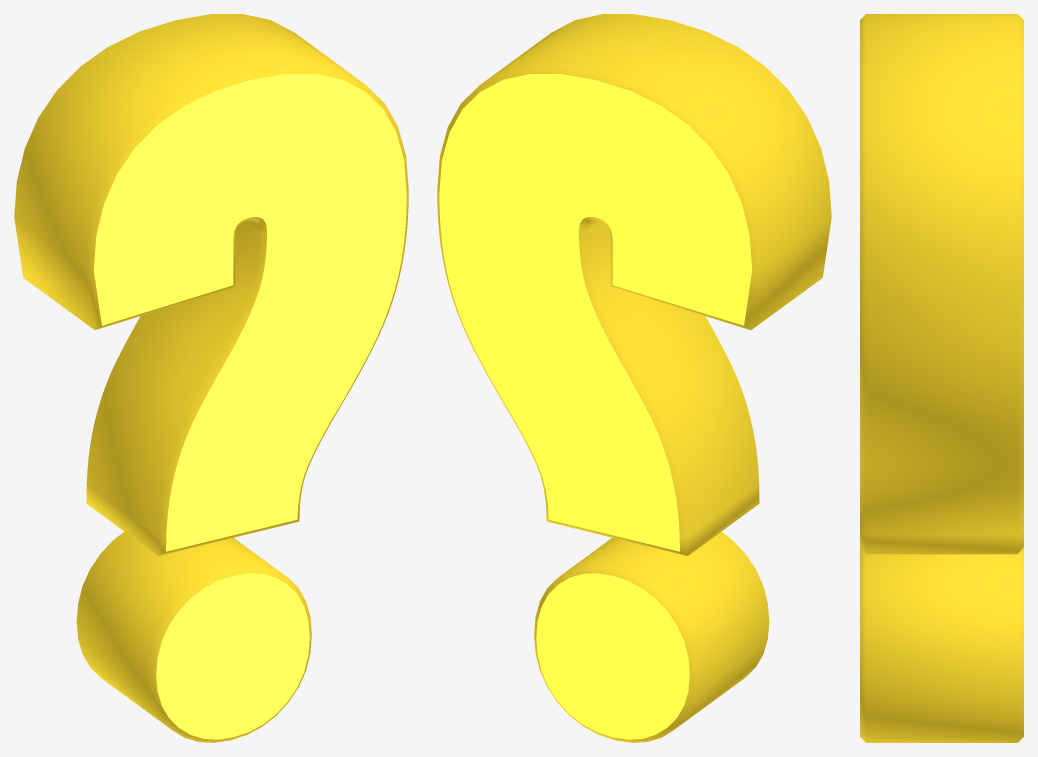
The picture shows the model from 3 angles, left to right: view 1: azimuth 30°, elevation 25°; view 2: azimuth 150°, elevation 25°; view 3: azimuth 270°, elevation 25°; orthographic projection. The views are drawn at different scales.
Parts seen in each view (by area): view 1: glyph; view 2: glyph; view 3: glyph.
Part boxes in pixels (box(x1,y1,x2,y2)): glyph: box(14, 14, 408, 742); glyph: box(437, 14, 831, 742); glyph: box(860, 14, 1023, 742).
Bounding box in the file's own units: 0.039 × 0.0766 × 0.0162.
